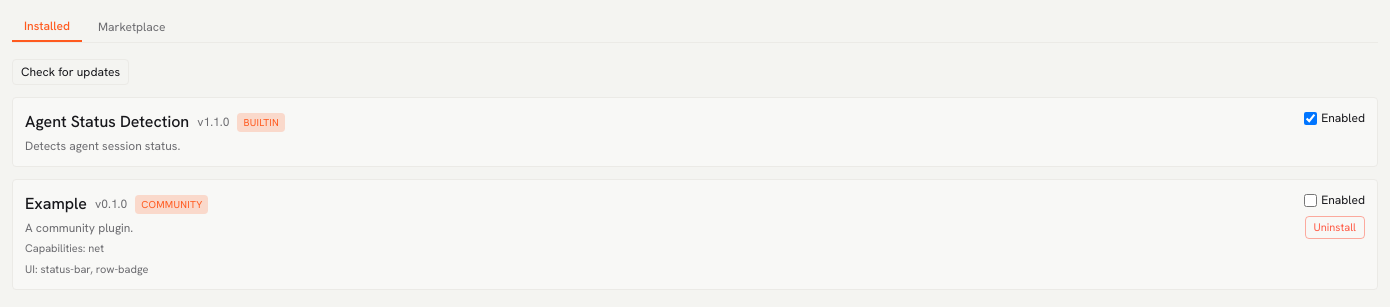
Scenario: PluginsSettings › Search GitHub renders badged results with a copyable install command
Click the tab with test id "plugins-tab-marketplace" at x=132, y=27, box [86,12,178,42]
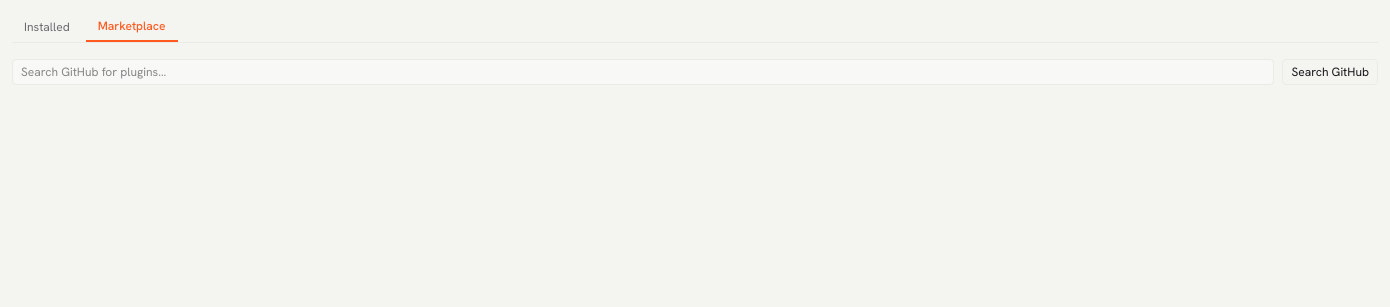
Click the button with test id "plugins-discover" at x=1330, y=72, box [1282,59,1378,85]
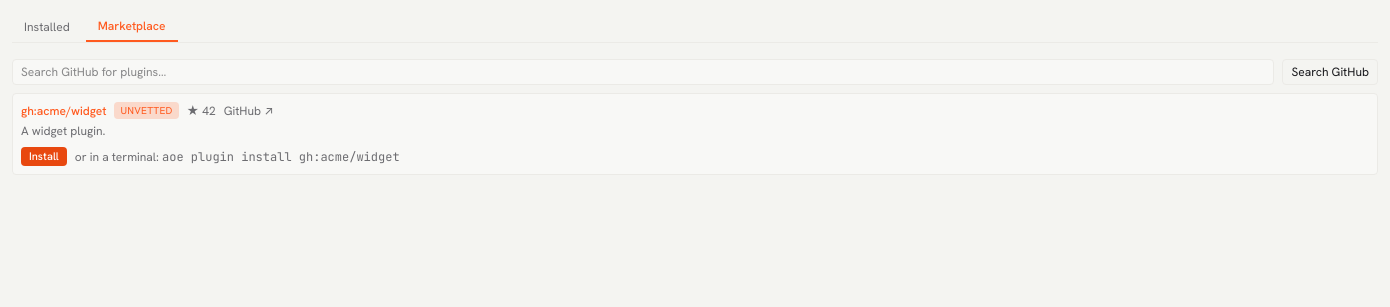
Expected: the element with test id "plugins-discover-result-gh:acme/widget" shows "aoe plugin install gh:acme/widget", [162,149,400,165]
Expected: the element with test id "plugins-discover-result-gh:acme/widget" shows "unvetted", [120,104,173,117]
